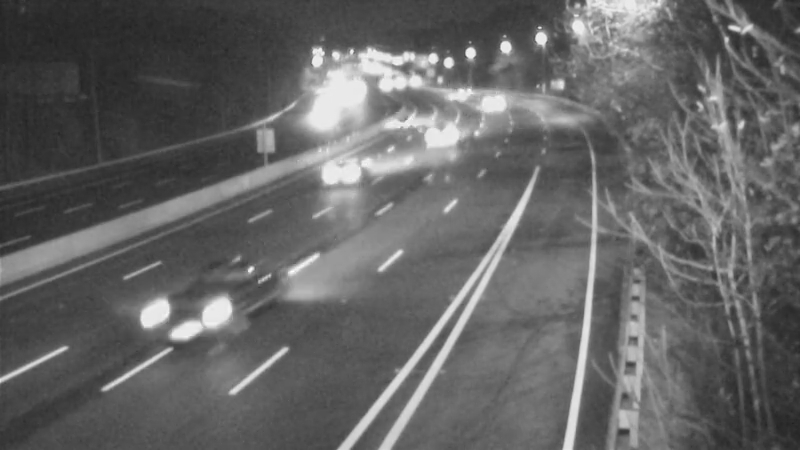vehicle: (128, 260, 238, 370), (303, 132, 383, 212), (466, 79, 516, 129), (380, 88, 430, 138), (416, 105, 466, 155), (293, 89, 343, 139)
